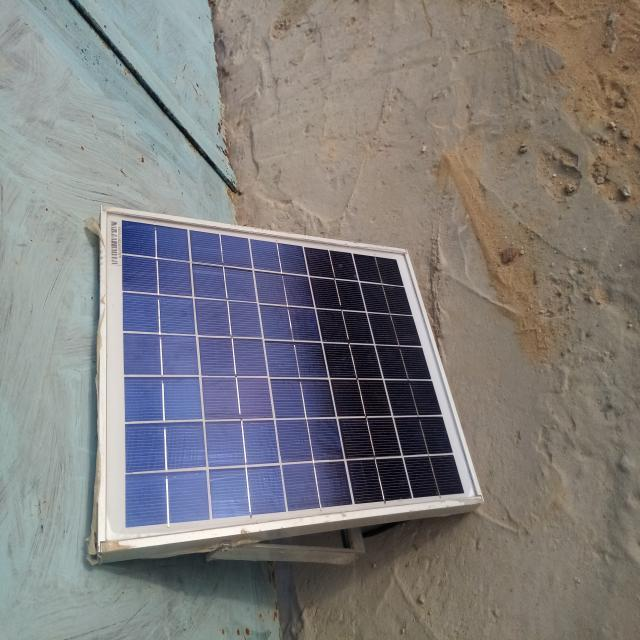no faulty: (100, 213, 482, 554)
